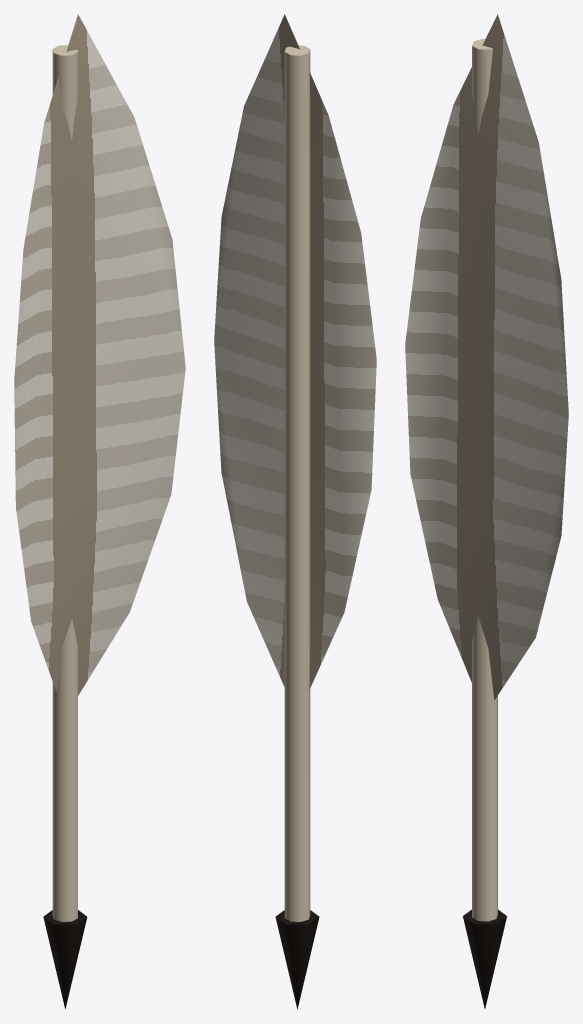
The model's file is pluma.glb.
The picture shows the model from 3 angles, left to right: view 1: azimuth 30°, elevation 25°; view 2: azimuth 150°, elevation 25°; view 3: azimuth 330°, elevation 25°; orthographic projection.
Parts seen in each view (by area): view 1: pluma; view 2: pluma; view 3: pluma.
Boxes of the visible parts, x1,y1,x2,y2 form: pluma: (14,14,185,1008); pluma: (214,14,376,1009); pluma: (405,14,568,1008).
Size of the model in its own units: 0.2625 by 1.49 by 0.0804.
3 materials, 1 textured.
